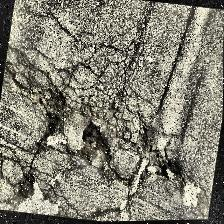pothole: (29, 85, 75, 141), (75, 118, 119, 168), (4, 170, 38, 214)
